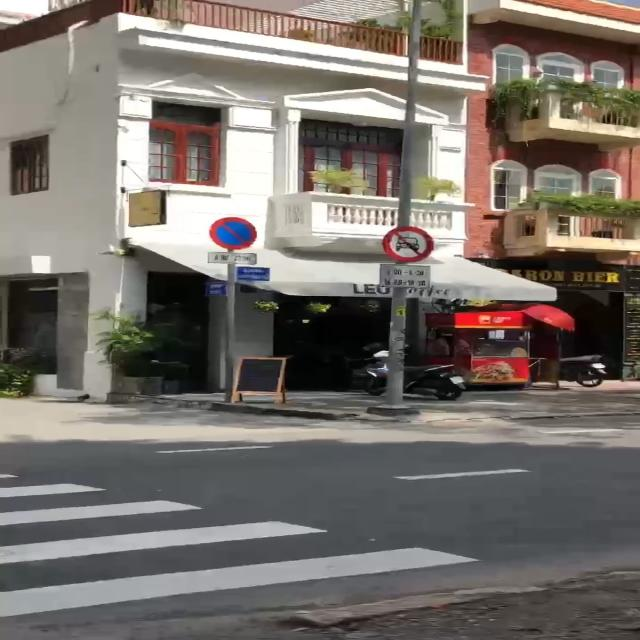Bien bao cam do xe: (208, 215, 260, 252)
Bien bao cam xe oto: (374, 222, 441, 264)
